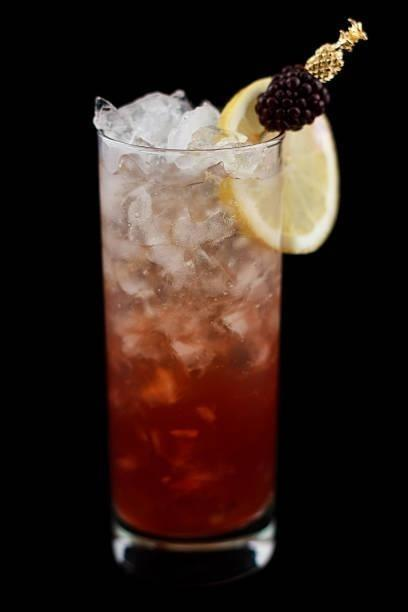glass-normal: (93, 102, 288, 590)
